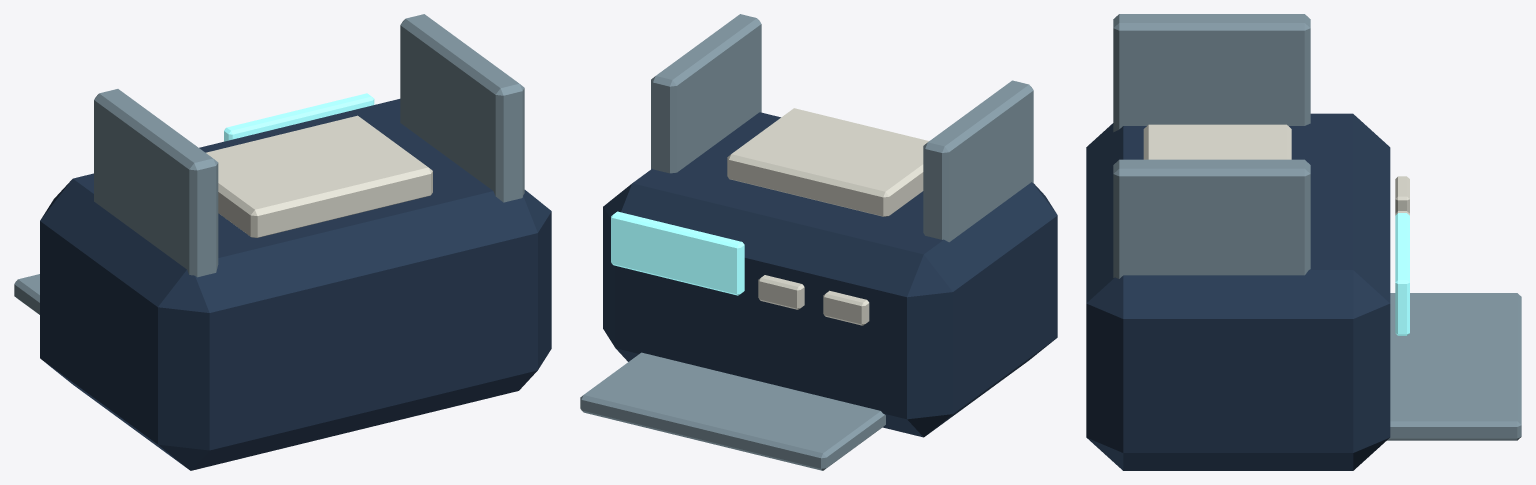
Rendered from token_currency_counter.glb.
3 renders of one model, left to right at view 1: azimuth 30°, elevation 25°; view 2: azimuth 150°, elevation 25°; view 3: azimuth 270°, elevation 25°, orthographic. The views are drawn at different scales.
Visible parts, largest first — view 1: counter_body, hopper_side (×2), banknotes, screen, output_tray; view 2: counter_body, hopper_side (×2), output_tray, banknotes, screen, key (×2); view 3: counter_body, hopper_side (×2), output_tray, banknotes, screen, key.
Part boxes in pixels (<box>): counter_body: <box>40,99,551,470</box>; hopper_side (×2): <box>94,14,524,277</box>; banknotes: <box>206,115,432,237</box>; screen: <box>224,93,374,141</box>; output_tray: <box>14,274,39,314</box>; counter_body: <box>603,112,1057,437</box>; hopper_side (×2): <box>651,14,1033,242</box>; output_tray: <box>580,352,885,470</box>; banknotes: <box>727,108,928,216</box>; screen: <box>611,211,744,295</box>; key (×2): <box>758,275,869,325</box>; counter_body: <box>1086,113,1390,470</box>; hopper_side (×2): <box>1113,14,1310,278</box>; output_tray: <box>1387,293,1521,440</box>; banknotes: <box>1143,124,1291,159</box>; screen: <box>1395,213,1409,335</box>; key: <box>1395,176,1409,213</box>.
Bounding box in the file's own units: 0.54 × 0.405 × 0.53.
